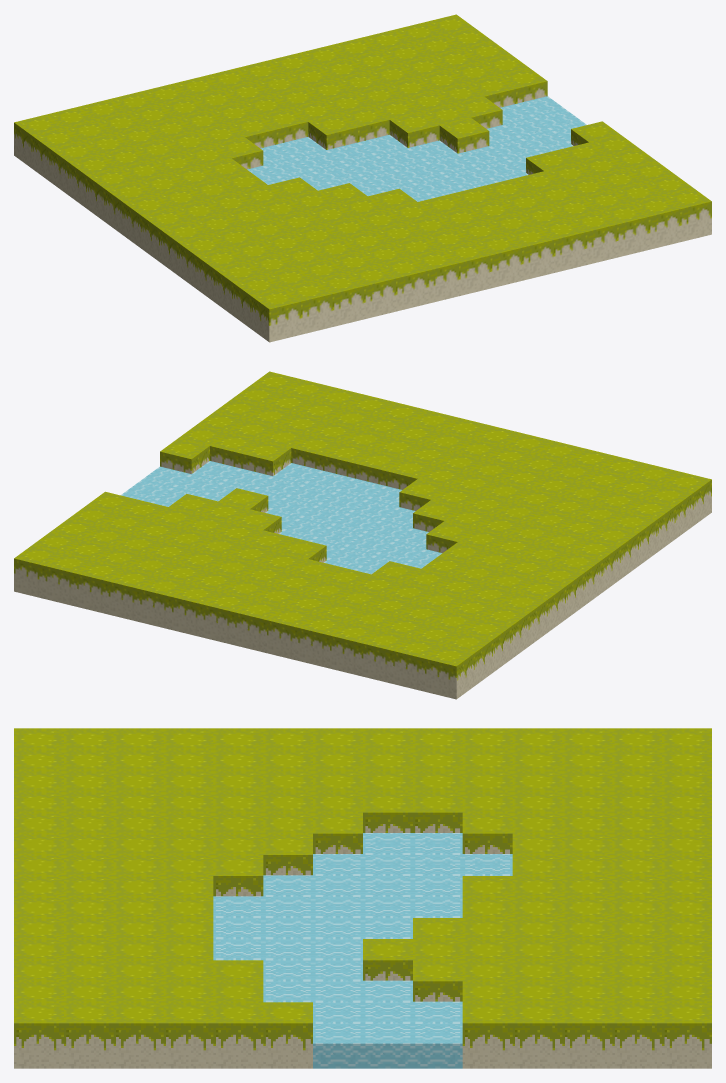
3 renders of one model, top to bottom at view 1: azimuth 30°, elevation 25°; view 2: azimuth 150°, elevation 25°; view 3: azimuth 270°, elevation 25°, orthographic. The views are drawn at different scales.
Parts seen in each view (by area): view 1: Ground_Grass_D__2__1__42__1; view 2: Ground_Grass_D__2__1__42__1; view 3: Ground_Grass_D__2__1__42__1.
Boxes of the visible parts, x1=… form: Ground_Grass_D__2__1__42__1: x1=14, y1=14, x2=711, y2=342; Ground_Grass_D__2__1__42__1: x1=14, y1=371, x2=711, y2=699; Ground_Grass_D__2__1__42__1: x1=14, y1=728, x2=711, y2=1068.
Size of the model in its own units: 8400 by 600 by 8400.
Materials: 2 (2 with a texture image).
